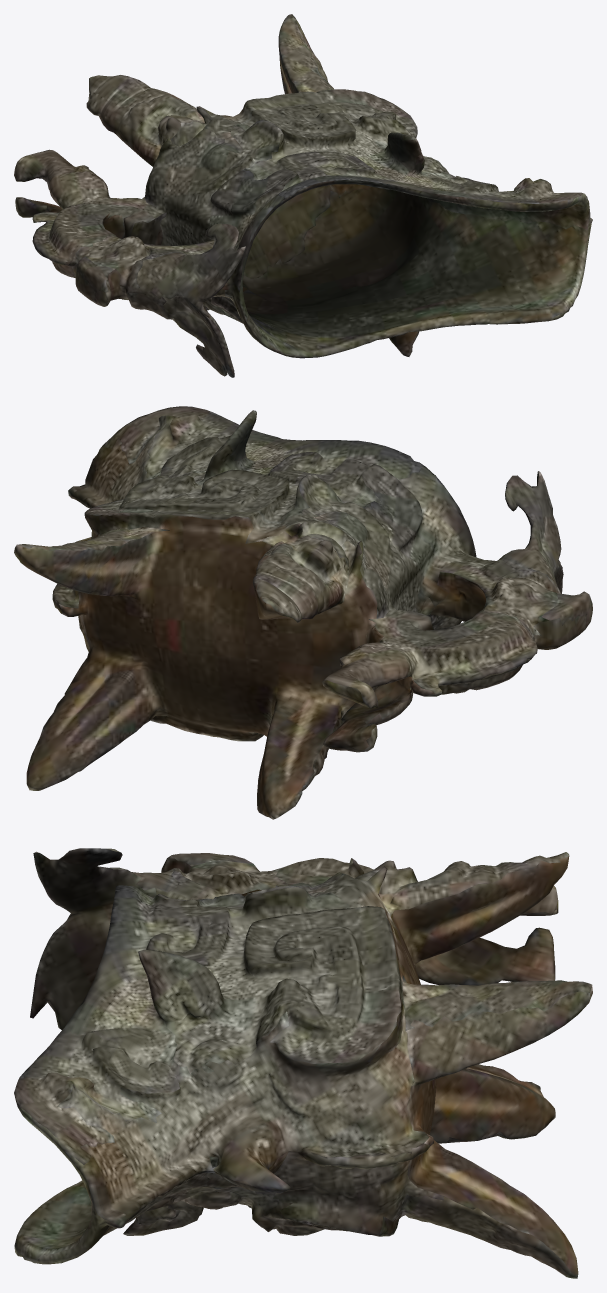
File: f1961_33-part_02-x_pol-ort_texture-30k-512-web.glb
The picture shows the model from 3 angles, top to bottom: view 1: azimuth 30°, elevation 25°; view 2: azimuth 150°, elevation 25°; view 3: azimuth 270°, elevation 25°; orthographic projection. The views are drawn at different scales.
Bounding box in the file's own units: 0.286 × 0.1284 × 0.2194.
Materials: 1 (1 with a texture image).
